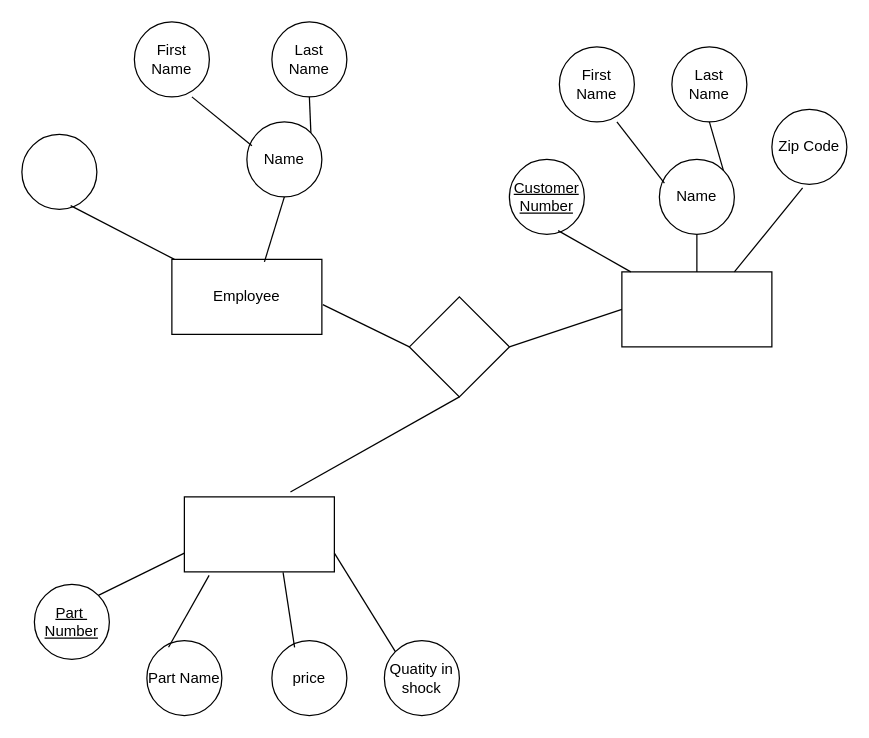
The diagram is 869 pixels wide and 738 high, and some of its shapes have lost their labels. The shapes that lost their labels are listed below. From the top down, each one's centre as x and y in pixels, then its label:
point 59,171: Employee Number
point 696,309: Customer
point 458,346: Order
point 258,534: Part
